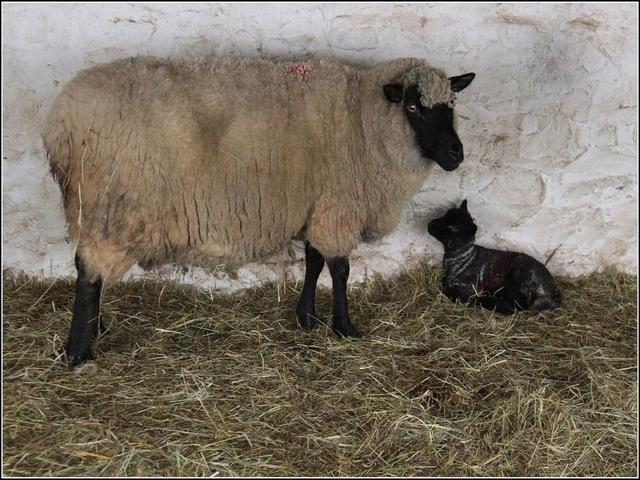sheep: (35, 16, 460, 436)
